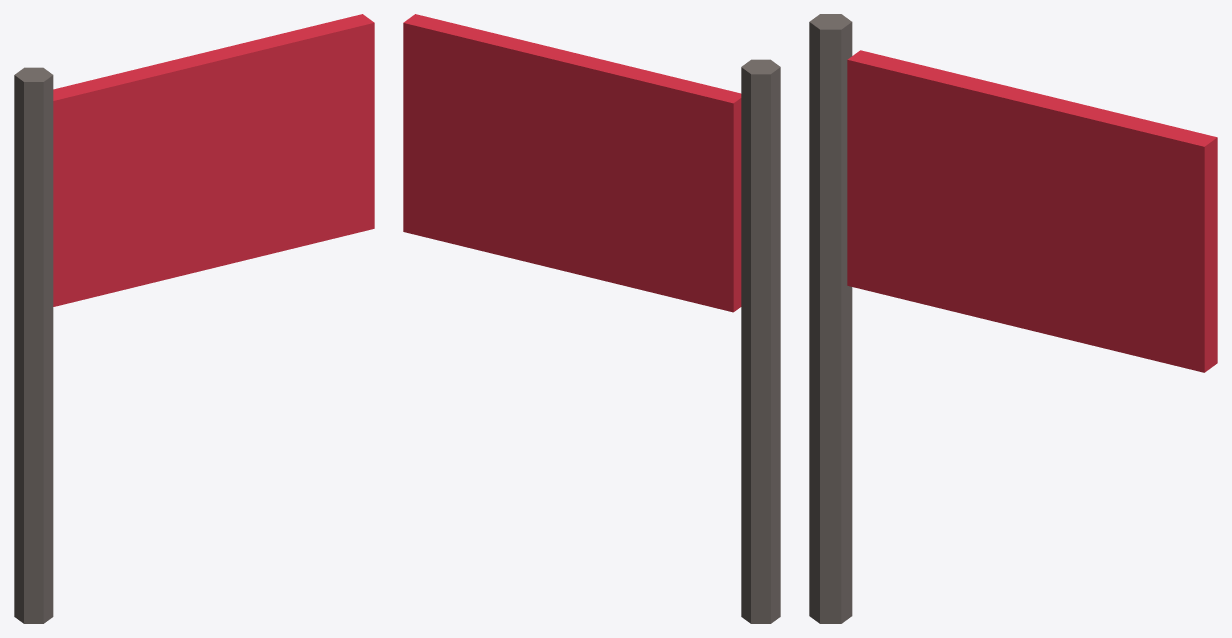
Rendered from 2_2 Castleflag.fbx.
3 views of the same model, side by side, from view 1: azimuth 30°, elevation 25°; view 2: azimuth 150°, elevation 25°; view 3: azimuth 330°, elevation 25° (orthographic). The views are drawn at different scales.
Parts seen in each view (by area): view 1: Plane.001, Flagpost.006; view 2: Plane.001, Flagpost.006; view 3: Plane.001, Flagpost.006.
Part boxes in pixels (x1=…): Plane.001: x1=53, y1=14, x2=374, y2=306; Flagpost.006: x1=14, y1=67, x2=53, y2=623; Plane.001: x1=403, y1=14, x2=741, y2=312; Flagpost.006: x1=741, y1=59, x2=780, y2=623; Plane.001: x1=847, y1=50, x2=1217, y2=372; Flagpost.006: x1=809, y1=14, x2=852, y2=623.
Bounding box in the file's own units: 30.05 × 415 × 285.
